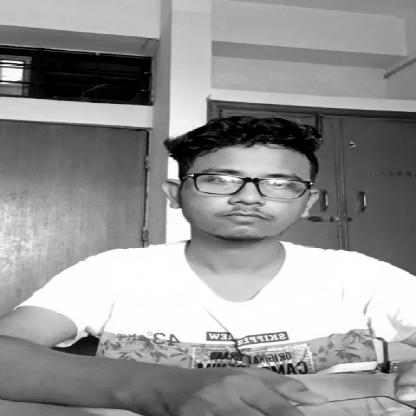Normal: (173, 137, 315, 239)
